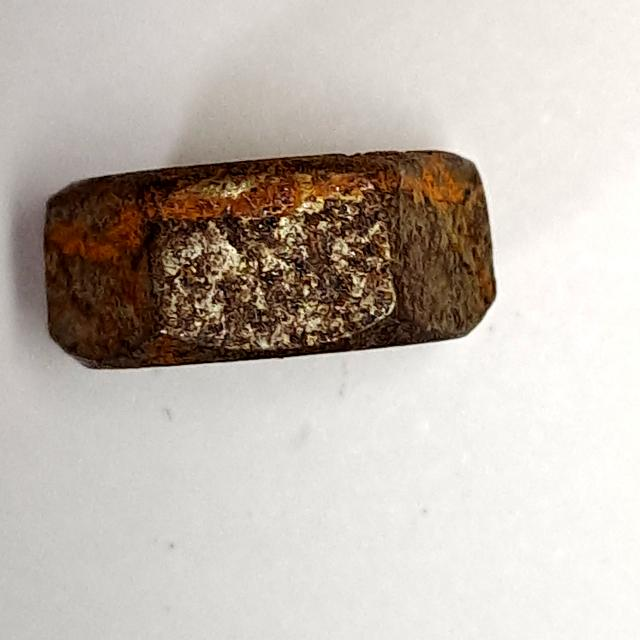Side_Rust: (25, 136, 519, 396)
